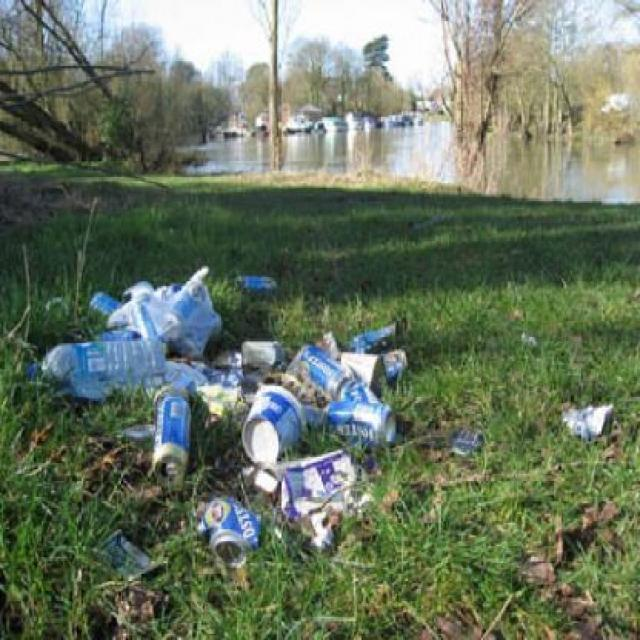garbage: (237, 326, 394, 542), (45, 269, 234, 391), (154, 376, 268, 560)
